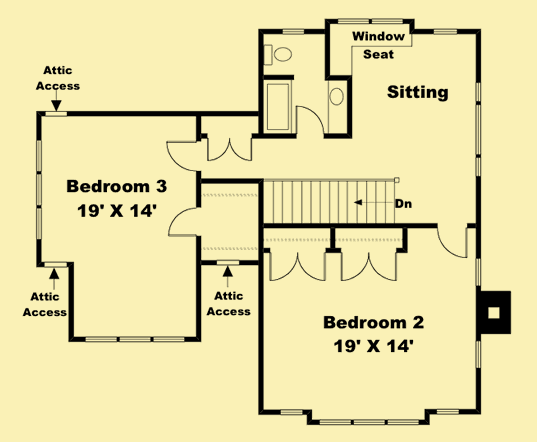door: (267, 251, 330, 285), (338, 249, 398, 283), (205, 135, 253, 166), (164, 137, 202, 175), (436, 221, 470, 259), (294, 104, 327, 139), (165, 206, 198, 239), (474, 81, 481, 179)
large_sink: (262, 42, 293, 68)
small_sink: (327, 81, 350, 136)
stairs: (262, 178, 412, 226)
tub: (264, 80, 294, 134)
window: (33, 139, 45, 243), (84, 335, 187, 345), (315, 419, 424, 427), (336, 15, 408, 27), (474, 339, 484, 369), (431, 25, 460, 35), (433, 406, 460, 416), (475, 256, 482, 287), (277, 408, 303, 416), (280, 27, 305, 34)
